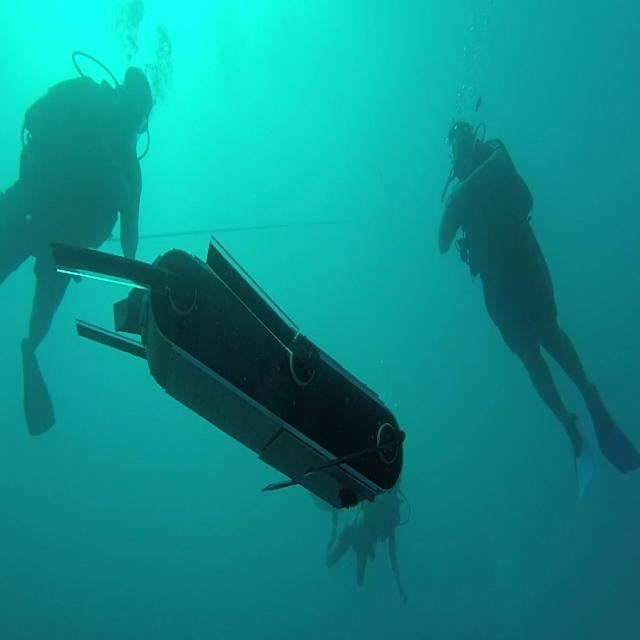human: (437, 117, 639, 499), (0, 54, 154, 437)
